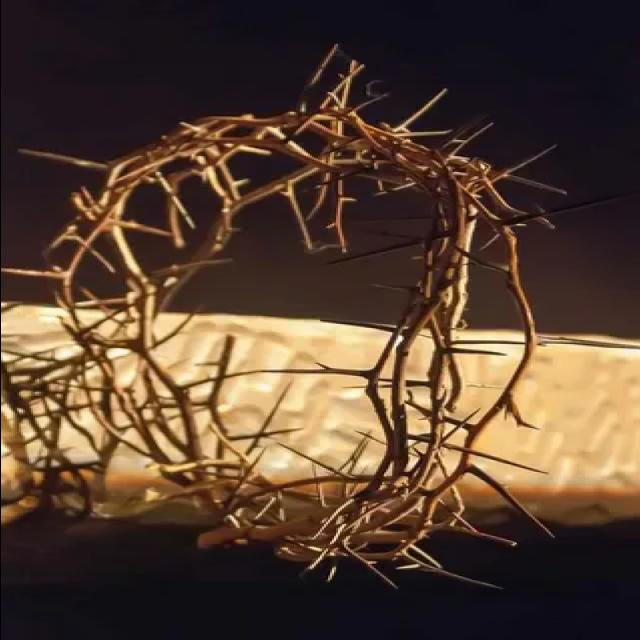crown: (55, 77, 549, 574)
